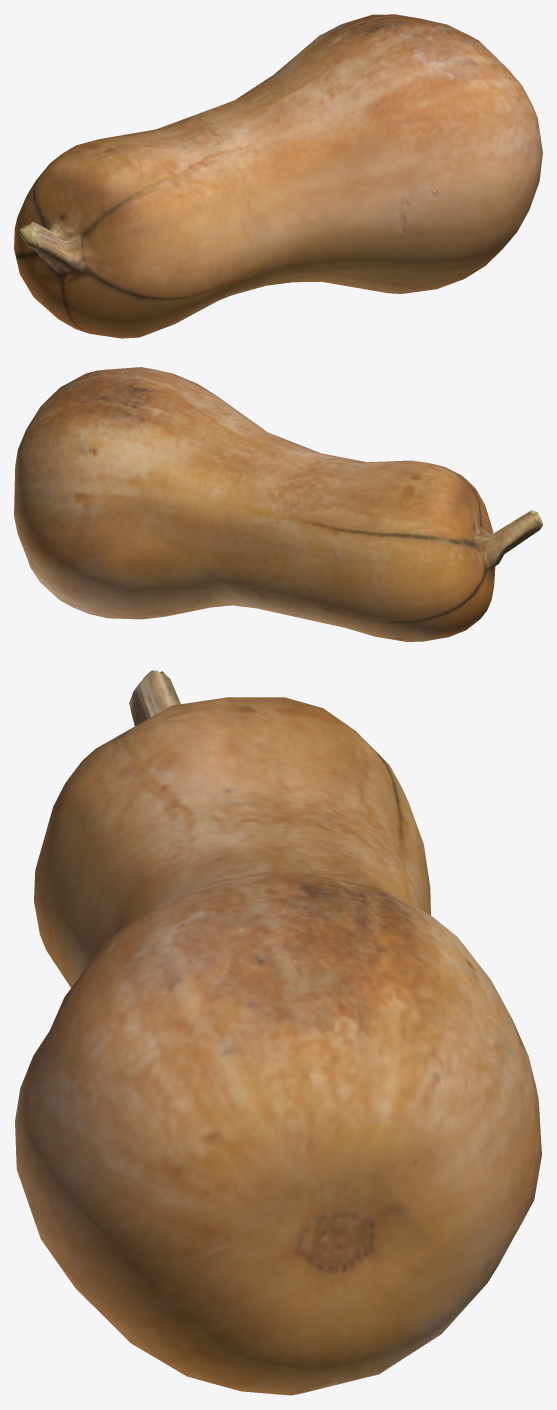
3 views of the same model, one above another, from view 1: azimuth 30°, elevation 25°; view 2: azimuth 150°, elevation 25°; view 3: azimuth 270°, elevation 25° (orthographic). The views are drawn at different scales.
Parts seen in each view (by area): view 1: 78_calabaza; view 2: 78_calabaza; view 3: 78_calabaza.
Boxes of the visible parts, x1=… form: 78_calabaza: x1=14, y1=14, x2=542, y2=338; 78_calabaza: x1=14, y1=367, x2=542, y2=641; 78_calabaza: x1=15, y1=670, x2=541, y2=1395.
Bounding box in the file's own units: 1.37 × 0.6251 × 0.6472.
1 material, 1 textured.
